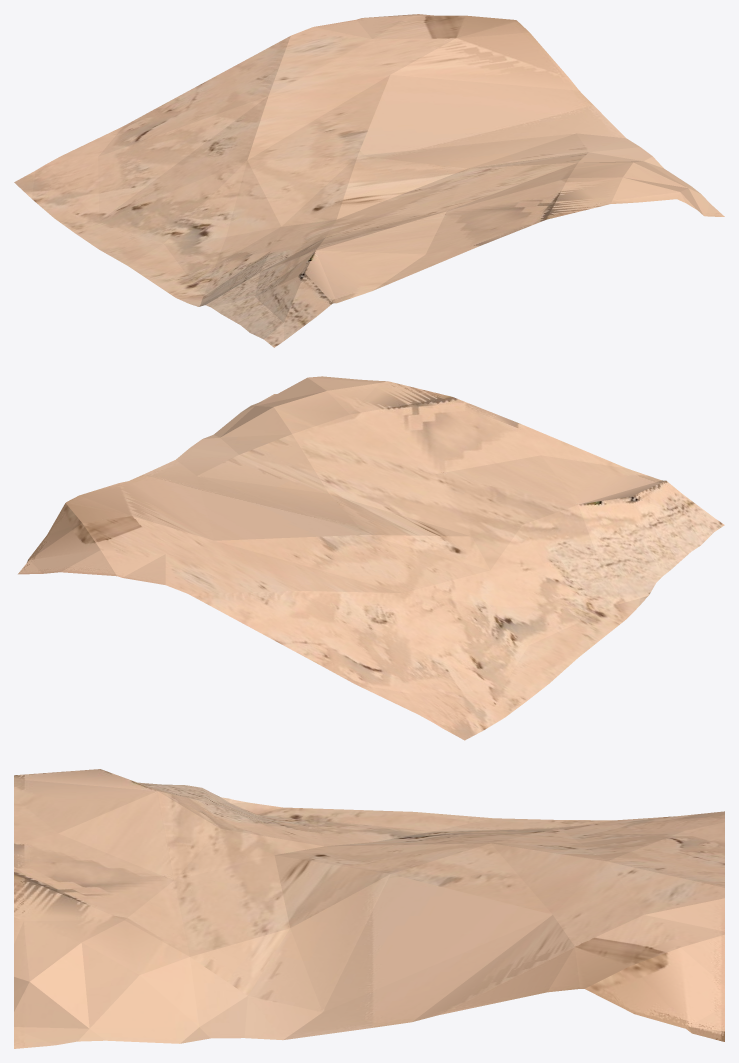
3 renders of one model, top to bottom at view 1: azimuth 30°, elevation 25°; view 2: azimuth 150°, elevation 25°; view 3: azimuth 270°, elevation 25°, orthographic. The views are drawn at different scales.
Bounding box in the file's own units: 2.09 × 0.4288 × 2.09.
2 materials, 2 textured.
